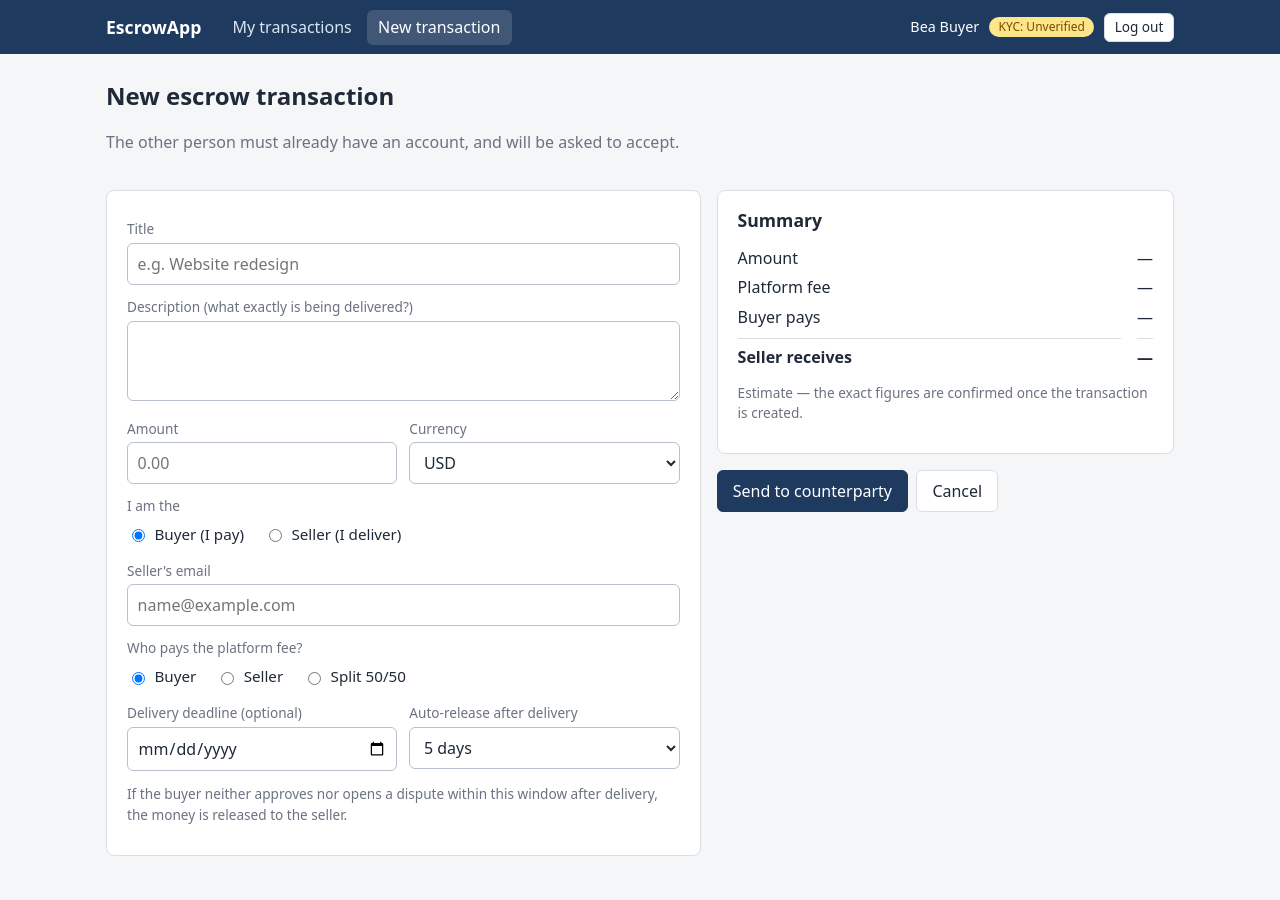
Test: new transaction › refuses an invalid amount without calling the server
Type "x" into the field labelled "Title" at coordinates (403, 264), box [127, 243, 680, 285]
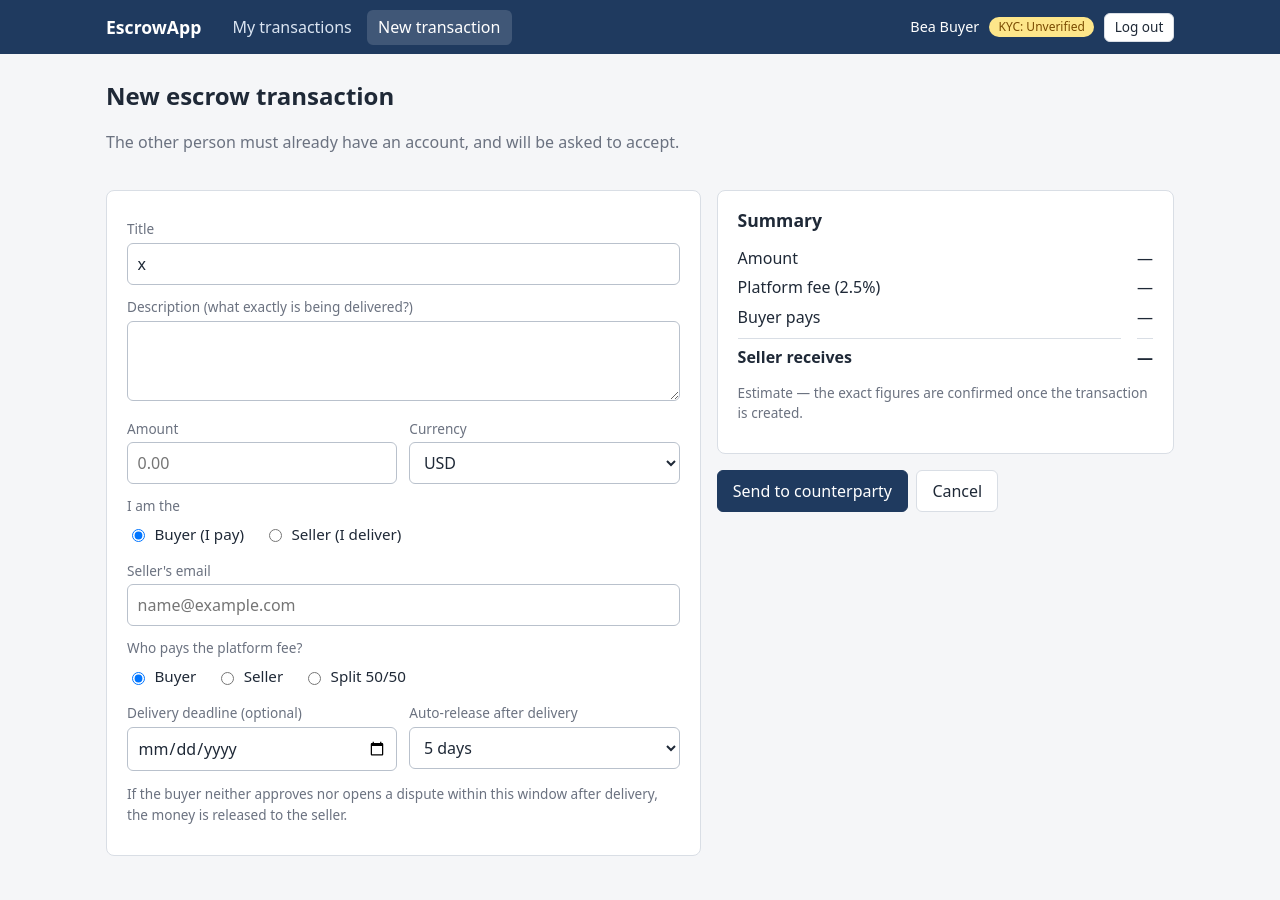
Type "1.234" into the field labelled "Amount" at coordinates (262, 463), box [127, 442, 397, 484]
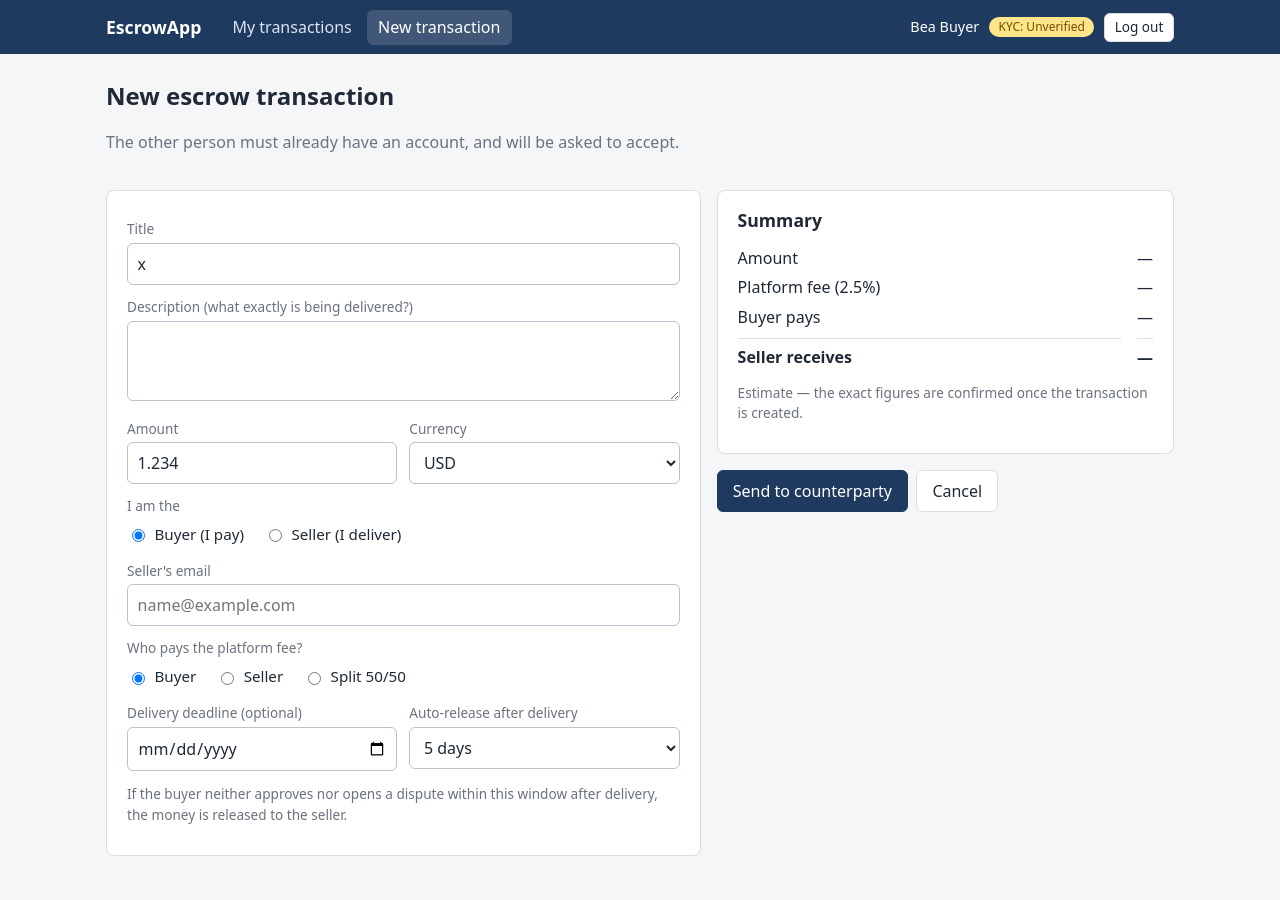
Type "sam@example.com" into the field labelled "Seller's email" at coordinates (403, 605), box [127, 584, 680, 626]
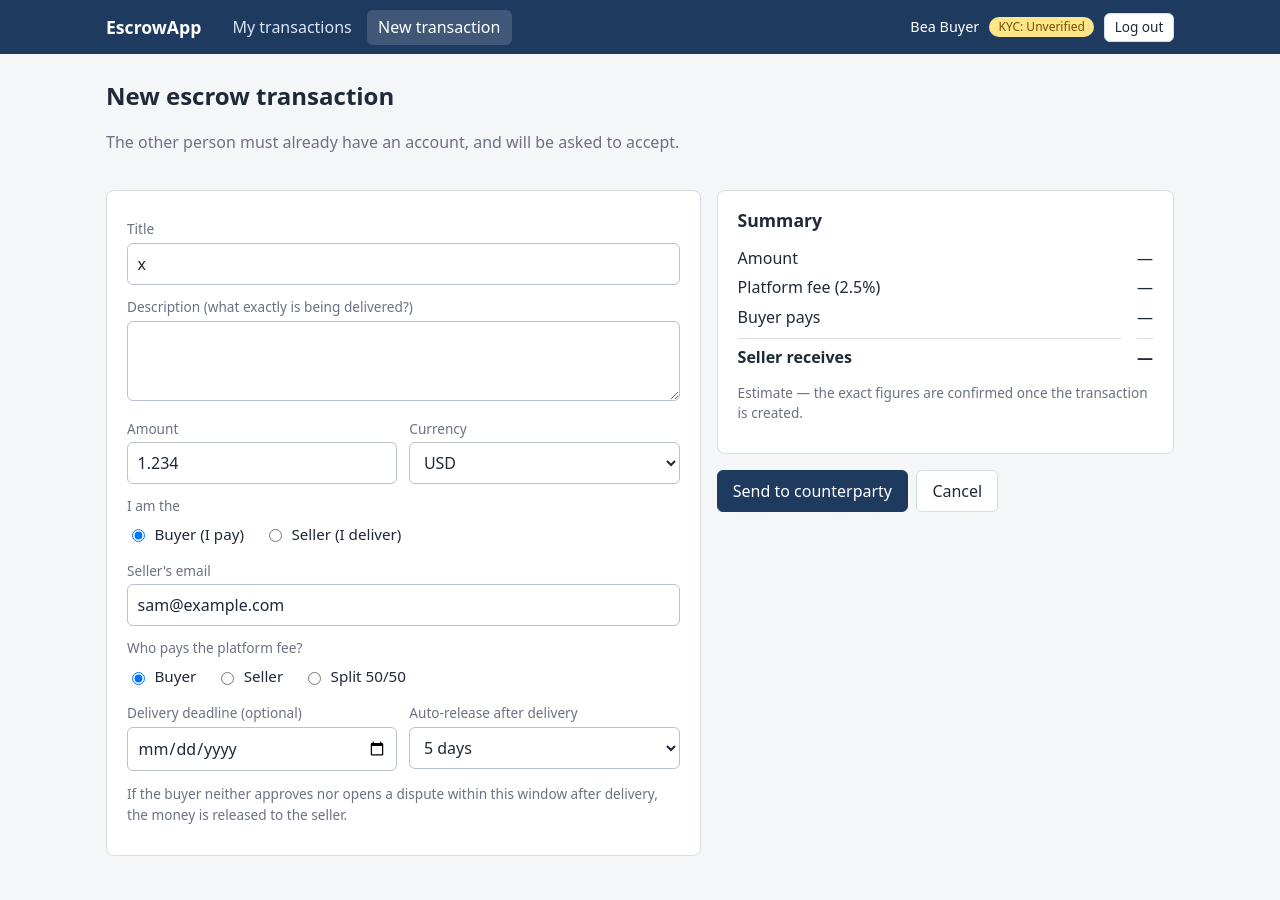
Click the button "Send to counterparty" at coordinates (812, 491), box [717, 470, 908, 512]
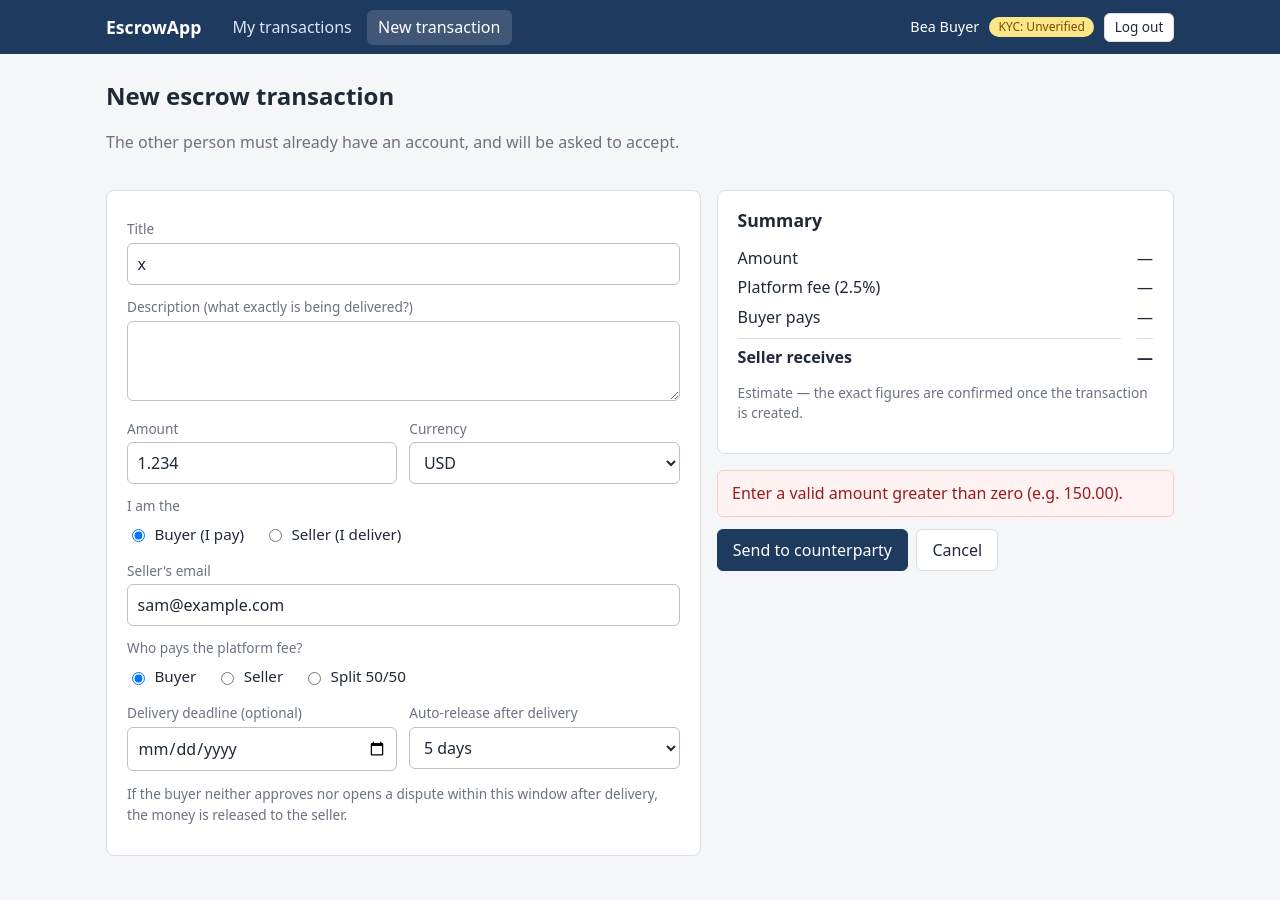
Expected: the message "Enter a valid amount greater than zero (e.g. 150.00)." is shown, [717, 470, 1174, 517]
